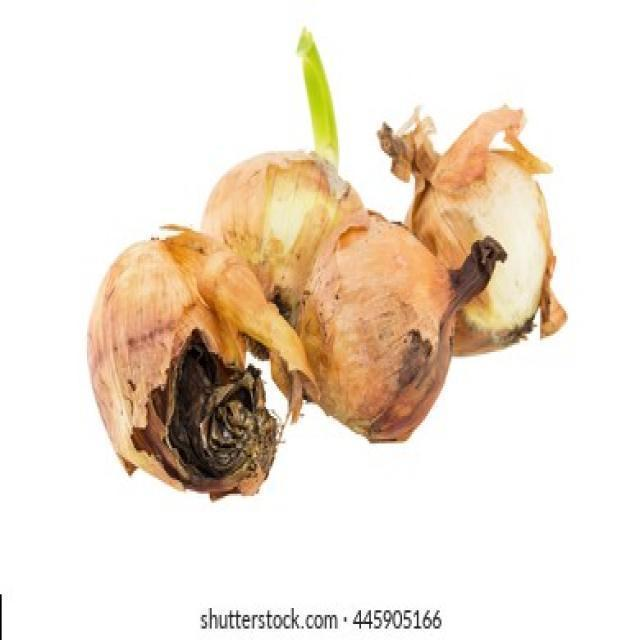Onion: (87, 223, 323, 500), (273, 207, 508, 447), (374, 104, 569, 354), (198, 150, 367, 359), (293, 24, 340, 175)
